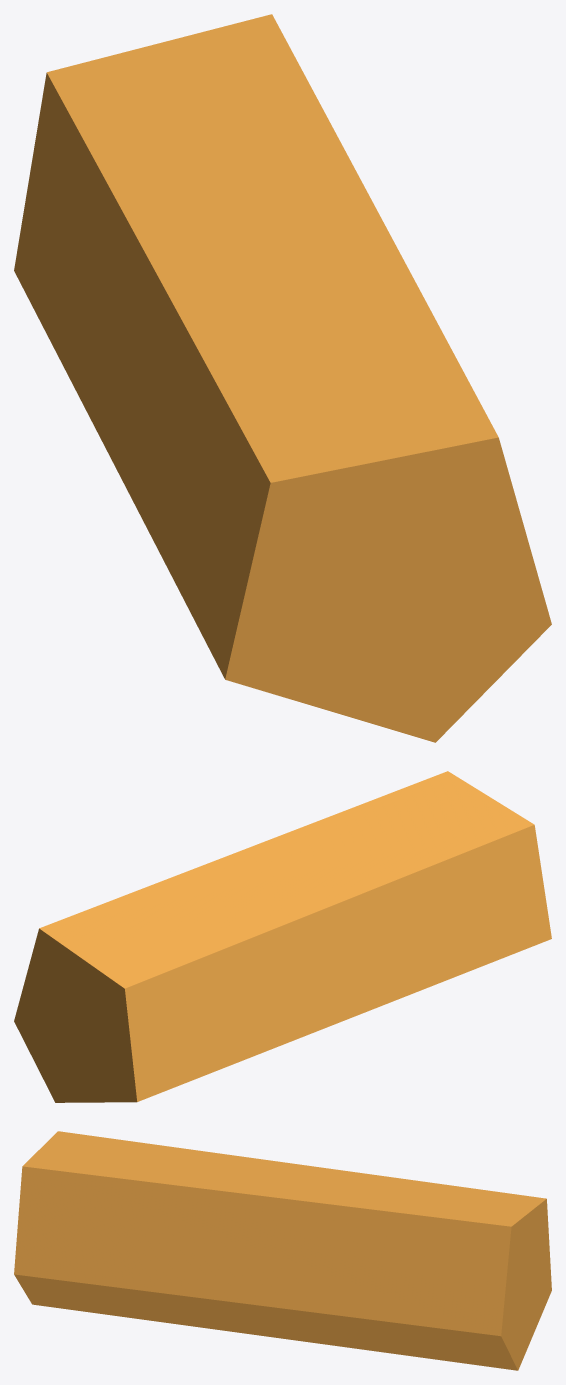
3 renders of one model, top to bottom at view 1: azimuth 30°, elevation 25°; view 2: azimuth 150°, elevation 25°; view 3: azimuth 270°, elevation 25°, orthographic. The views are drawn at different scales.
Visible parts, largest first — view 1: Cylinder; view 2: Cylinder; view 3: Cylinder.
Boxes of the visible parts, x1=… form: Cylinder: x1=14, y1=14, x2=551, y2=742; Cylinder: x1=14, y1=771, x2=551, y2=1102; Cylinder: x1=14, y1=1131, x2=551, y2=1370.
Size of the model in its own units: 0.352 by 0.1889 by 0.5963.
